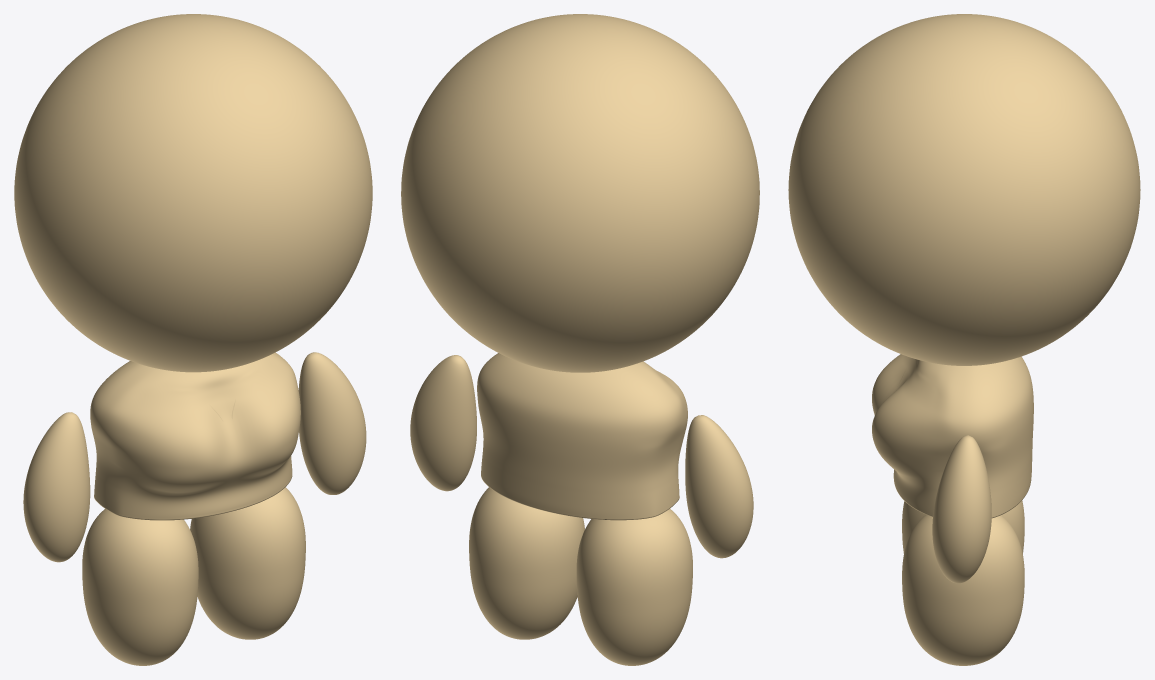
Rendered from Feminine-Feminine-uncovered-base-b9d435ff.glb.
3 views of the same model, side by side, from view 1: azimuth 30°, elevation 25°; view 2: azimuth 150°, elevation 25°; view 3: azimuth 270°, elevation 25° (orthographic).
Visible parts, largest first — view 1: Skin / soft oval head, Skin / rounded torso, Skin / leg blob -1, Skin / leg blob 1, Skin / swept arm -1, Skin / swept arm 1; view 2: Skin / soft oval head, Skin / rounded torso, Skin / leg blob -1, Skin / leg blob 1, Skin / swept arm -1, Skin / swept arm 1; view 3: Skin / soft oval head, Skin / rounded torso, Skin / leg blob 1, Skin / swept arm 1, Skin / leg blob -1.
Part boxes in pixels (box(x1,y1,x2,y2)): Skin / soft oval head: box(14, 14, 372, 372); Skin / rounded torso: box(90, 352, 300, 520); Skin / leg blob -1: box(82, 509, 198, 665); Skin / leg blob 1: box(190, 487, 305, 639); Skin / swept arm -1: box(23, 412, 90, 562); Skin / swept arm 1: box(298, 352, 366, 494); Skin / soft oval head: box(401, 14, 759, 372); Skin / rounded torso: box(477, 353, 687, 520); Skin / leg blob -1: box(576, 509, 692, 665); Skin / leg blob 1: box(469, 487, 584, 639); Skin / swept arm -1: box(685, 415, 753, 558); Skin / swept arm 1: box(410, 355, 476, 491); Skin / soft oval head: box(788, 14, 1140, 365); Skin / rounded torso: box(872, 354, 1033, 518); Skin / leg blob 1: box(902, 514, 1024, 665); Skin / swept arm 1: box(932, 435, 991, 583); Skin / leg blob -1: box(902, 500, 1024, 553).
Size of the model in its own units: 1.04 by 1.82 by 0.96.
